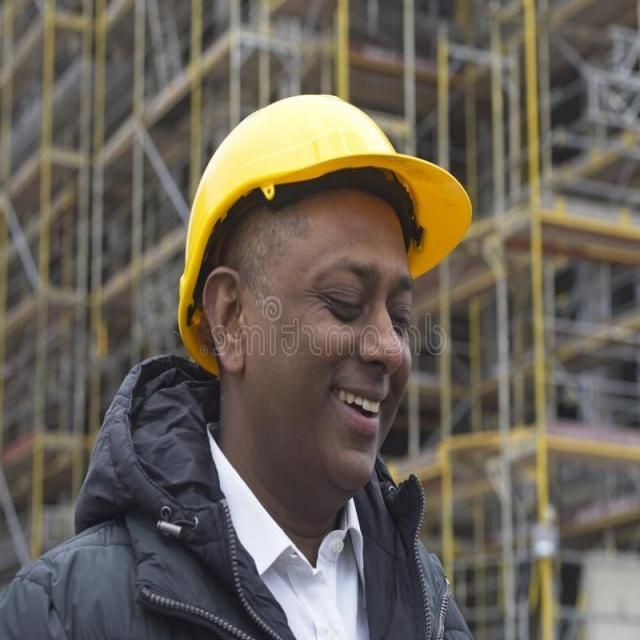Safety-Helmet: (172, 95, 477, 294)
